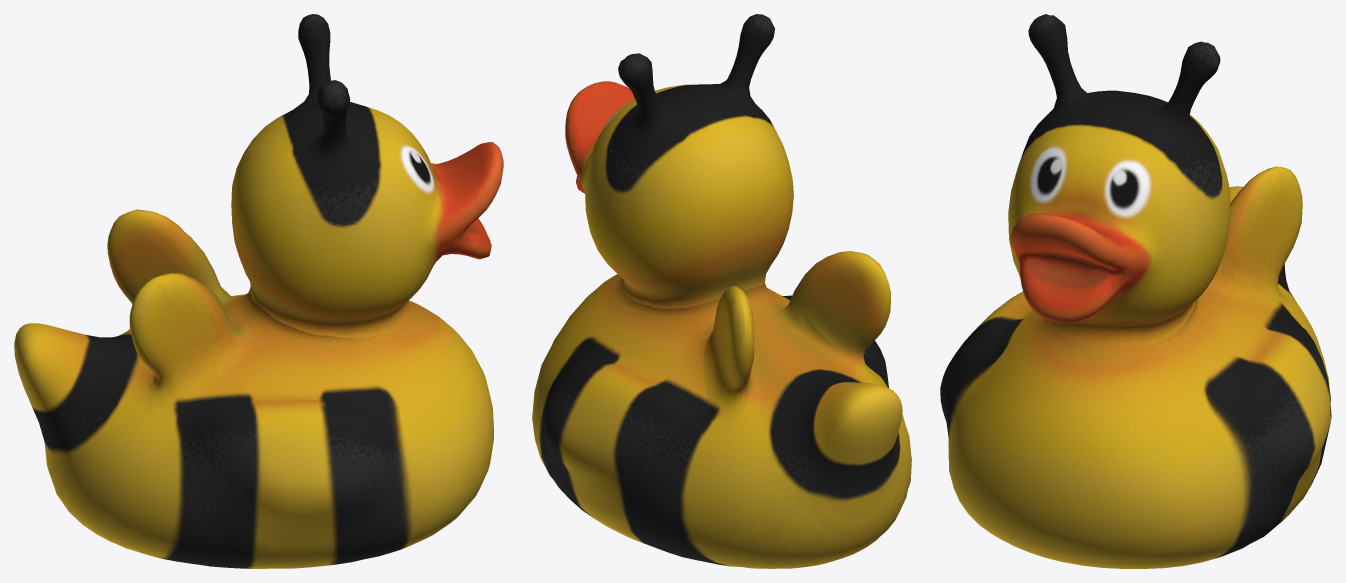
File: bee_rubber_duck.glb
3 views of the same model, side by side, from view 1: azimuth 30°, elevation 25°; view 2: azimuth 150°, elevation 25°; view 3: azimuth 270°, elevation 25° (orthographic). The views are drawn at different scales.
Visible parts, largest first — view 1: Cylinder017__0; view 2: Cylinder017__0; view 3: Cylinder017__0.
Boxes of the visible parts, box(x1,y1,x2,y2) form: Cylinder017__0: box(14, 14, 503, 568); Cylinder017__0: box(532, 14, 911, 568); Cylinder017__0: box(940, 14, 1331, 568).
Bounding box in the file's own units: 0.8915 × 0.9945 × 0.7038.
Materials: 1 (1 with a texture image).
